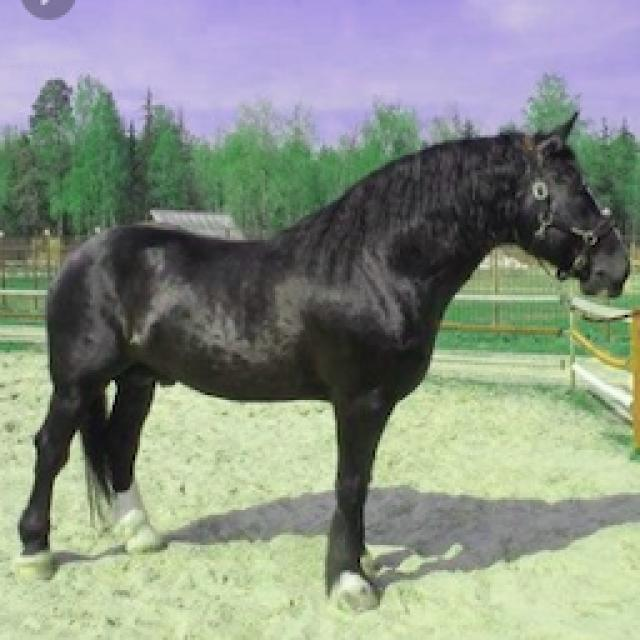Horse: (5, 102, 638, 616)
